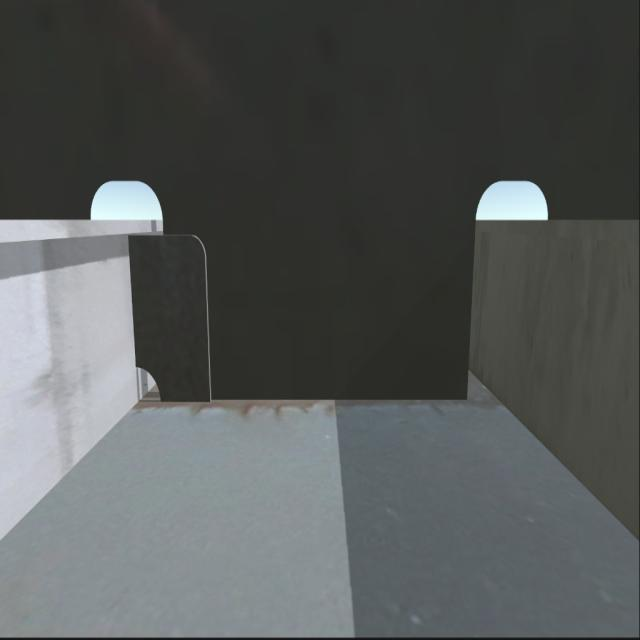fillet_hole: (131, 352, 176, 407)
fillet_yong_jeop_jang: (161, 384, 466, 414)
longi_yong_jeop_jang: (119, 233, 141, 368)
plate_CP05: (136, 235, 210, 402)
